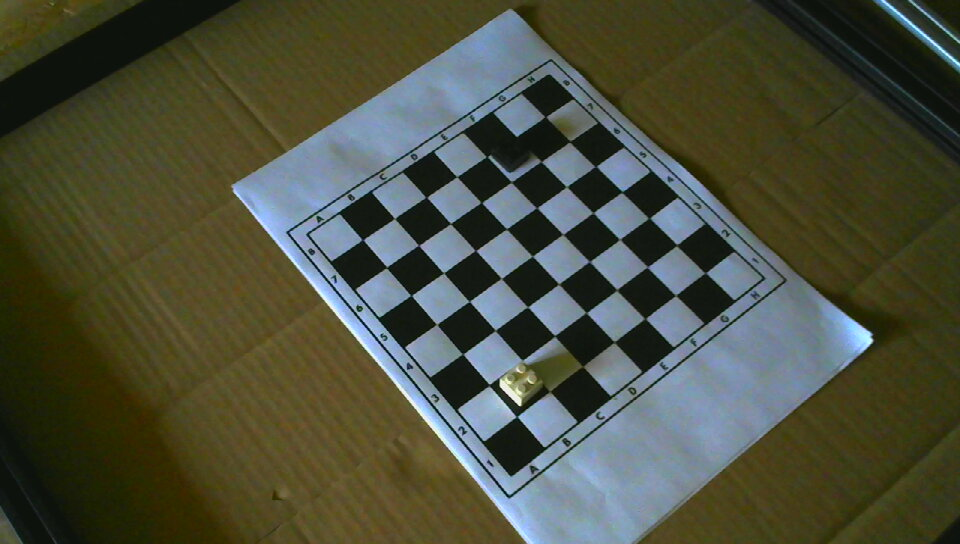bp: (492, 137, 530, 172)
wp: (499, 363, 543, 408)
